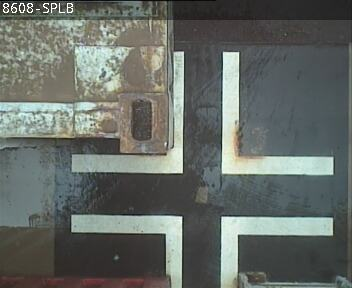groundmarker_1: (69, 50, 334, 174), (71, 215, 332, 288)
